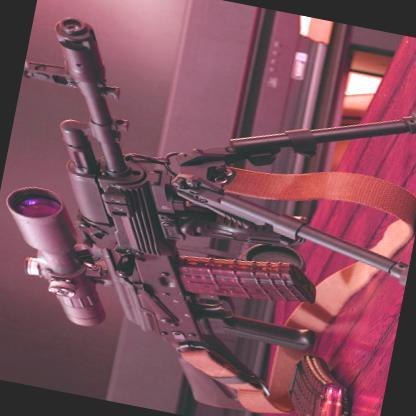rifle: (0, 17, 375, 416)
